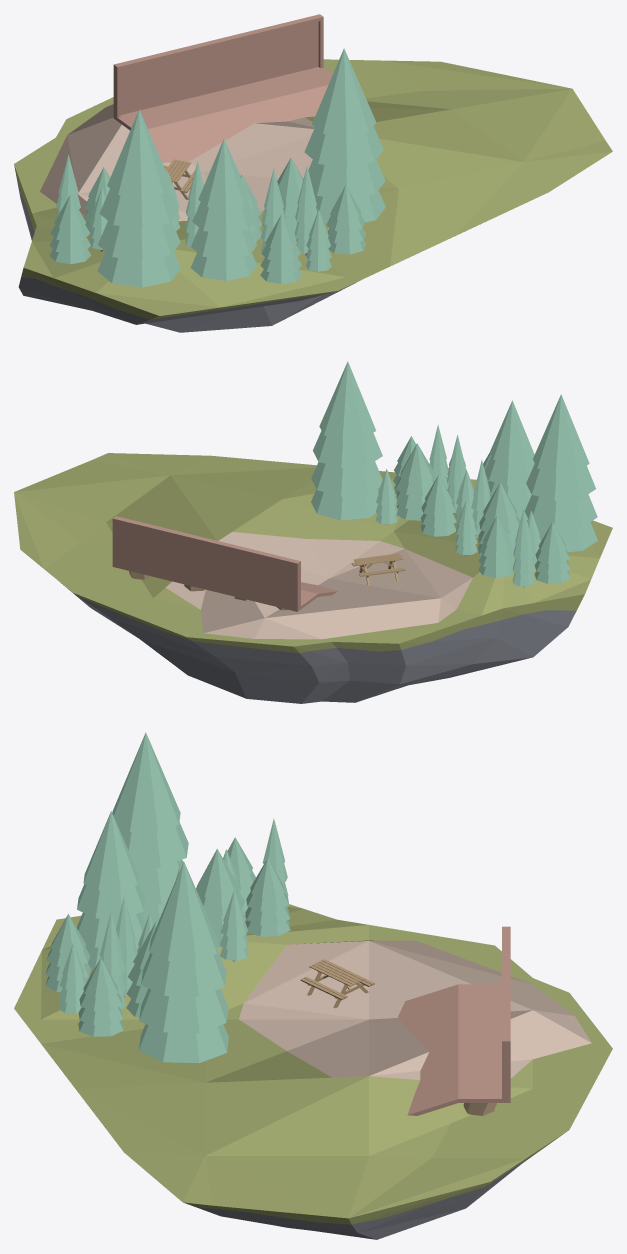
The model's file is Hubworld.dae.
3 renders of one model, top to bottom at view 1: azimuth 30°, elevation 25°; view 2: azimuth 150°, elevation 25°; view 3: azimuth 270°, elevation 25°, orthographic. The views are drawn at different scales.
Parts seen in each view (by area): view 1: Mesh102_Group23_Model; view 2: Mesh102_Group23_Model; view 3: Mesh102_Group23_Model.
Part boxes in pixels (x1,y1,x2,y2): Mesh102_Group23_Model: (14, 14, 612, 332); Mesh102_Group23_Model: (14, 361, 612, 703); Mesh102_Group23_Model: (14, 732, 612, 1239).
Size of the model in its own units: 27.4 by 21.01 by 12.08.
